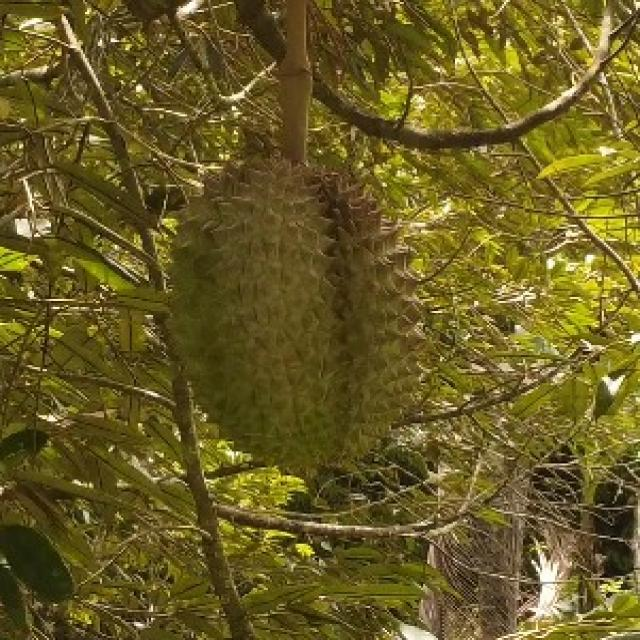mature: (161, 151, 426, 484)
